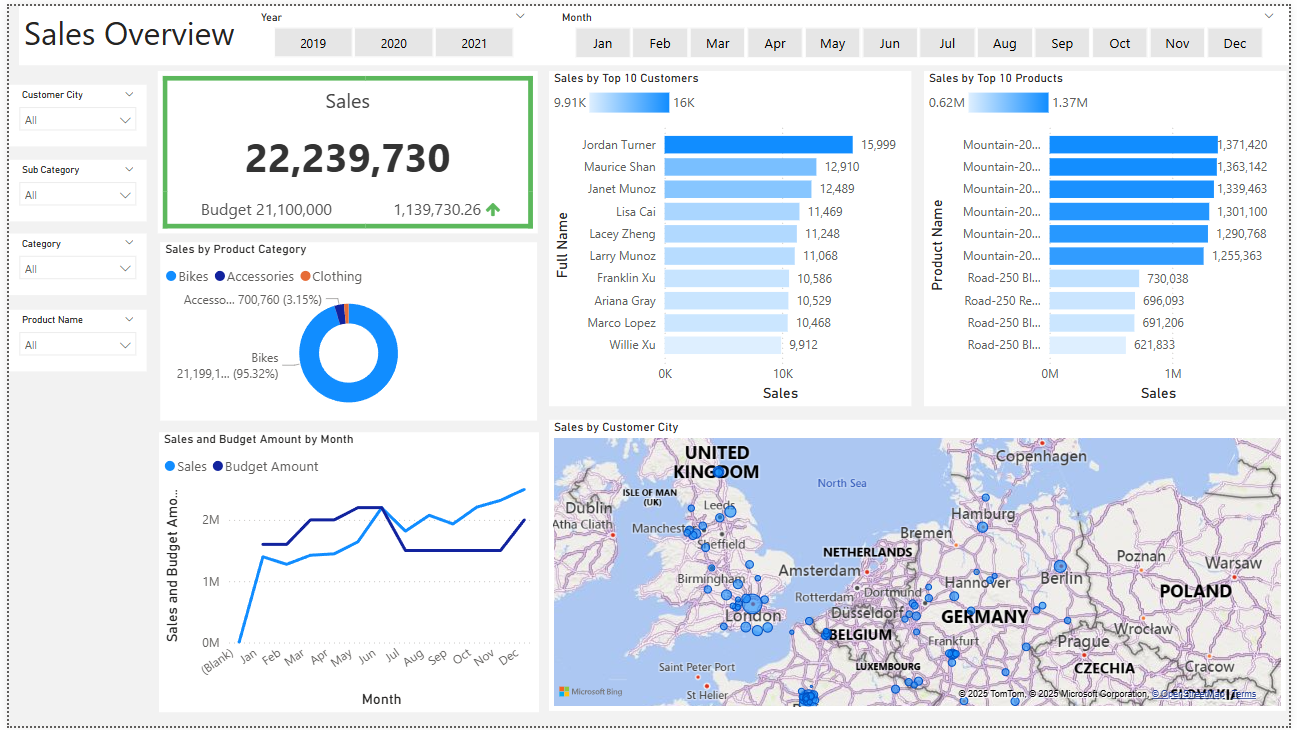

What the dashboard file says about the page in this screenshot:
{"tool":"powerbi","page":{"name":"SALES DASHBOARD","canvas":[1280,720],"ordinal":0},"visuals":[{"type":"textbox","box":[9.6,0,1270.7,59],"z":0},{"type":"slicer","fields":{"Values":["DIM_Customers.Customer City"]},"box":[0,78.2,137.2,61.7],"z":1000},{"type":"slicer","fields":{"Values":["DIM_Products.Sub Category"]},"box":[0,153.7,137.2,61.7],"z":2000},{"type":"slicer","fields":{"Values":["DIM_Products.Product Category"]},"box":[0,227.8,137.2,61.7],"z":3000},{"type":"slicer","fields":{"Values":["DIM_Products.Product Name"]},"box":[0,303.3,137.2,61.7],"z":4000},{"type":"slicer","fields":{"Values":["DIM_Calendar.Date.Variation.Date Hierarchy.Year"]},"box":[238.6,0,290,58.6],"z":5000},{"type":"slicer","fields":{"Values":["DIM_Calendar.MonthShort"]},"box":[540,0,737.5,58.8],"z":6000},{"type":"BBED0A4D4D8D44CE93CF2DAFADEE466C","fields":{"actual":["Key Measures.Sales"],"target2":["Key Measures.Sales - Budget Amount"],"target1":["Key Measures.Budget Amount"]},"box":[148.8,65,380,162.5],"z":7000},{"type":"donutChart","fields":{"Category":["DIM_Products.Product Category"],"Y":["Key Measures.Sales"]},"box":[151.4,235.7,377.1,178.6],"z":8000},{"type":"lineChart","fields":{"Y":["Key Measures.Sales","Key Measures.Budget Amount"],"Category":["DIM_Calendar.MonthShort"]},"box":[150,425.7,380,280],"z":9000},{"type":"barChart","title":"Sales by Top 10 Customers","fields":{"Y":["Key Measures.Sales"],"Category":["DIM_Customers.Full Name"]},"box":[540,65,362.5,335],"z":10000},{"type":"barChart","title":"Sales by Top 10 Products","fields":{"Y":["Key Measures.Sales"],"Category":["DIM_Products.Product Name"]},"box":[915,65,362.5,335],"z":11000},{"type":"map","fields":{"Category":["DIM_Customers.Customer City"],"Size":["Key Measures.Sales"]},"box":[540,414.3,737.1,291.4],"z":12000}]}

Visuals, with their boxes in screenshot pixels (x1, y1, x2, y2), scaled from the page's 1280x720 canvas onto the 1297x730 screenshot:
textbox: region(10, 0, 1296, 60)
slicer - DIM_Customers.Customer City: region(0, 79, 139, 142)
slicer - DIM_Products.Sub Category: region(0, 156, 139, 218)
slicer - DIM_Products.Product Category: region(0, 231, 139, 294)
slicer - DIM_Products.Product Name: region(0, 308, 139, 370)
slicer - DIM_Calendar.Date.Variation.Date Hierarchy.Year: region(242, 0, 536, 59)
slicer - DIM_Calendar.MonthShort: region(547, 0, 1294, 60)
BBED0A4D4D8D44CE93CF2DAFADEE466C - Key Measures.Sales x Key Measures.Sales - Budget Amount: region(151, 66, 536, 231)
donutChart - DIM_Products.Product Category x Key Measures.Sales: region(153, 239, 536, 420)
lineChart - Key Measures.Sales x Key Measures.Budget Amount: region(152, 432, 537, 716)
"Sales by Top 10 Customers" barChart: region(547, 66, 914, 406)
"Sales by Top 10 Products" barChart: region(927, 66, 1294, 406)
map - DIM_Customers.Customer City x Key Measures.Sales: region(547, 420, 1294, 716)
